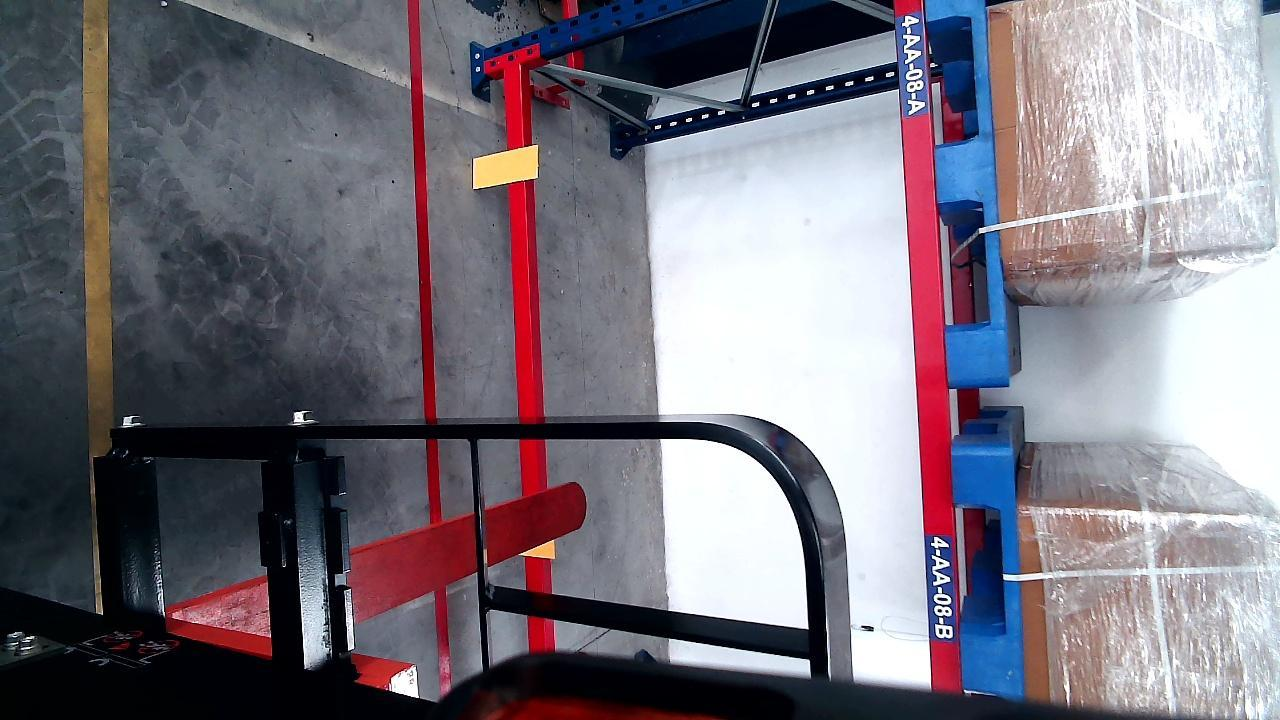red_line: (409, 0, 452, 689)
yellow_line: (83, 2, 114, 436)
